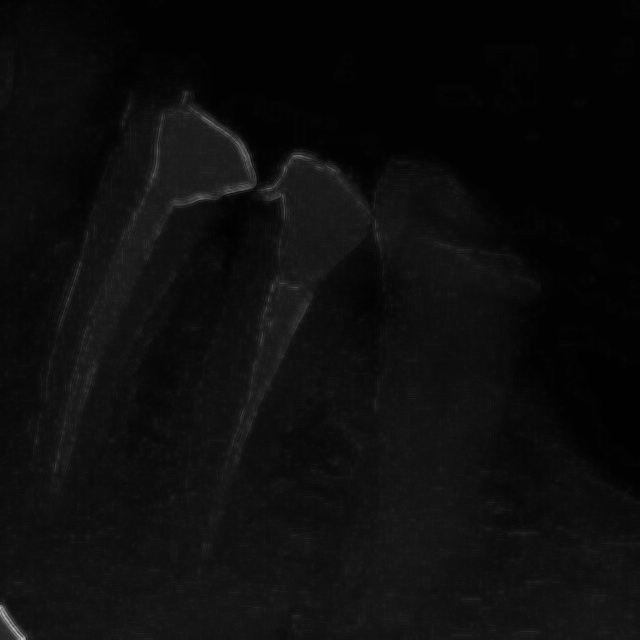Class 0- No endodontic treatment: (12, 46, 147, 552)
Class 1- complete endodontic treatment: (167, 205, 332, 638)
